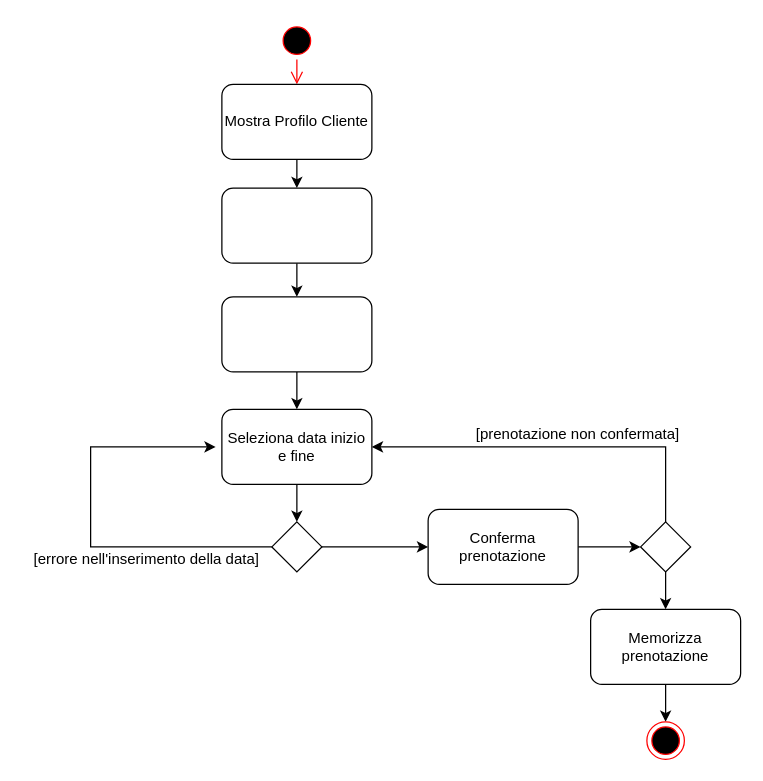
The diagram is 763 pixels wide and 781 high, and some of its shapes have lost their labels. The shapes that lost their labels are listed below. From the top down, each one's centre as x and y in pixels, then its label:
At pixel 296 225: "Mostra Prenotazioni".
At pixel 296 334: "Nuova prenotazione".
